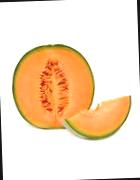Melon Ripe: (9, 42, 96, 132), (62, 96, 133, 142)
